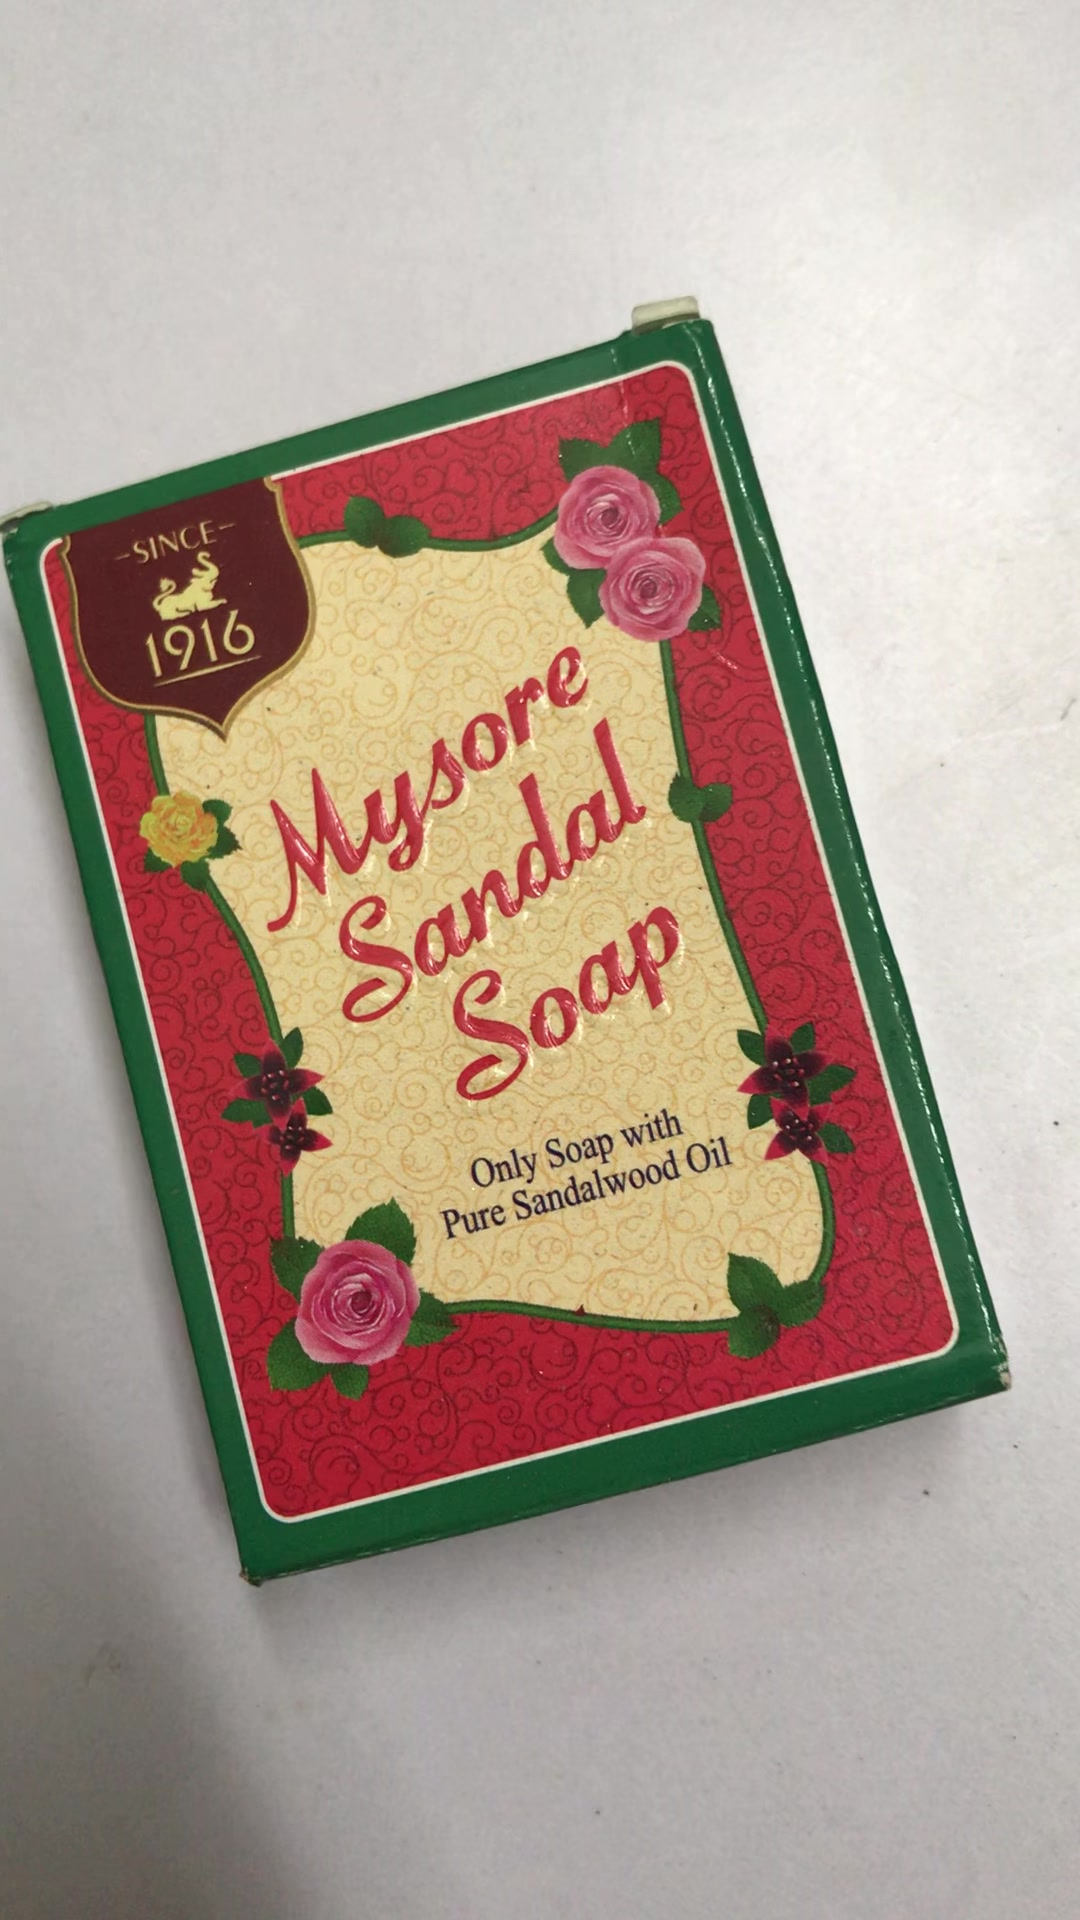mysore sandal soap: (5, 319, 1015, 1594)
